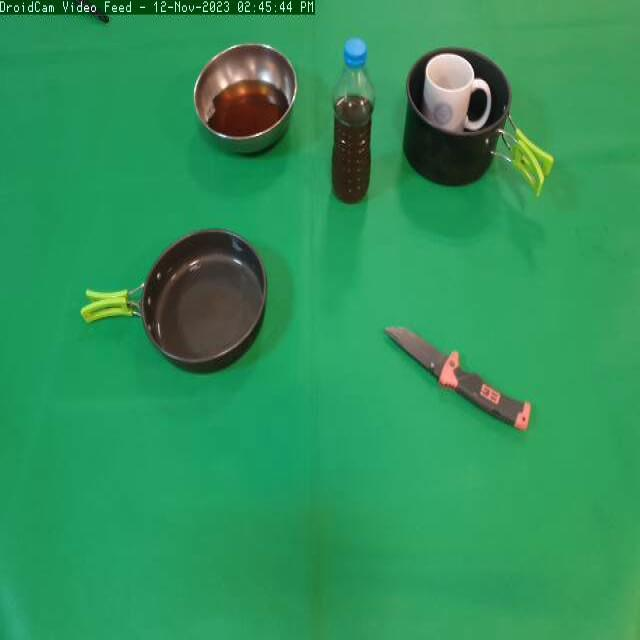cup: (421, 49, 495, 132)
fullbottle: (327, 30, 380, 216)
fullbowl: (188, 41, 300, 166)
knife: (375, 308, 539, 438)
pan: (70, 223, 271, 383)
pot: (394, 40, 556, 207)
